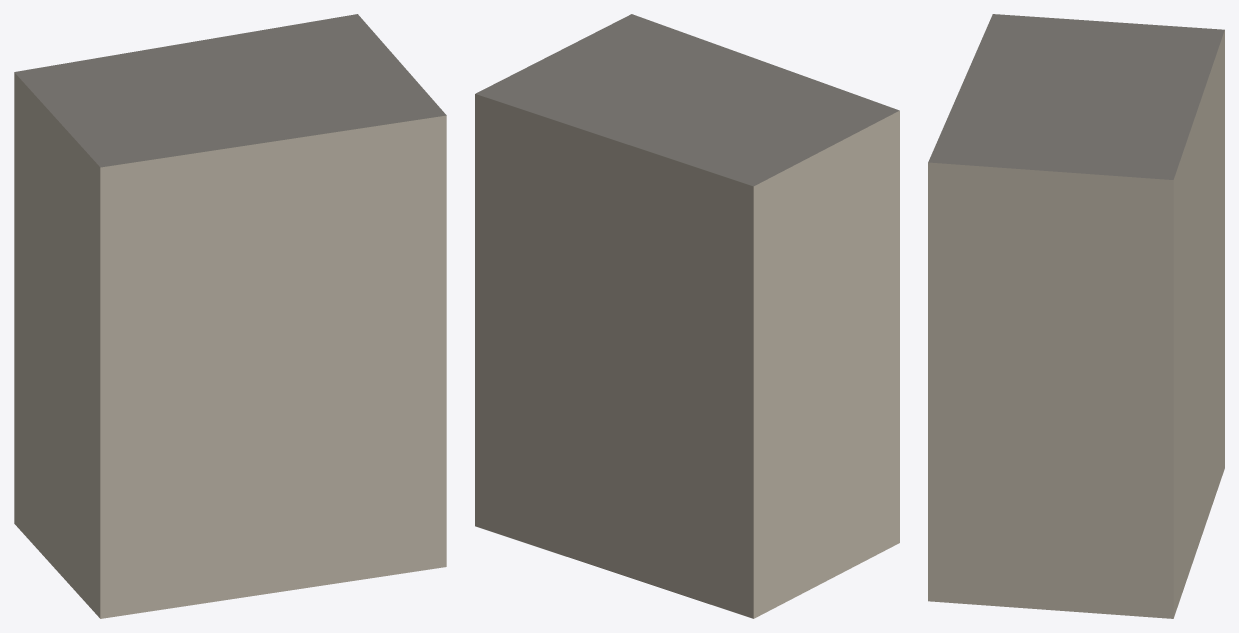
3 views of the same model, side by side, from view 1: azimuth 30°, elevation 25°; view 2: azimuth 150°, elevation 25°; view 3: azimuth 270°, elevation 25° (orthographic). The views are drawn at different scales.
Parts seen in each view (by area): view 1: HP-w505643549; view 2: HP-w505643549; view 3: HP-w505643549.
Boxes of the visible parts, x1=… form: HP-w505643549: x1=14, y1=14, x2=446, y2=618; HP-w505643549: x1=475, y1=14, x2=899, y2=618; HP-w505643549: x1=928, y1=14, x2=1224, y2=618.
Bounding box in the file's own units: 14.62 × 18 × 11.03.
